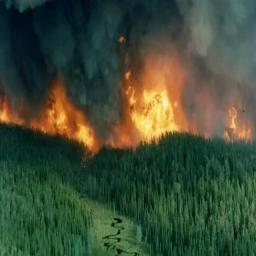Heavy smoke: (0, 0, 255, 128)
Large fire: (0, 67, 255, 151)
